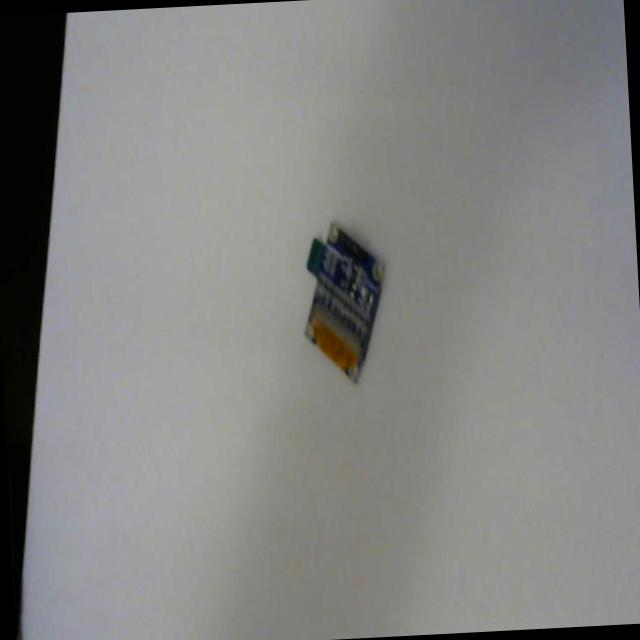oled: (296, 211, 395, 396)
